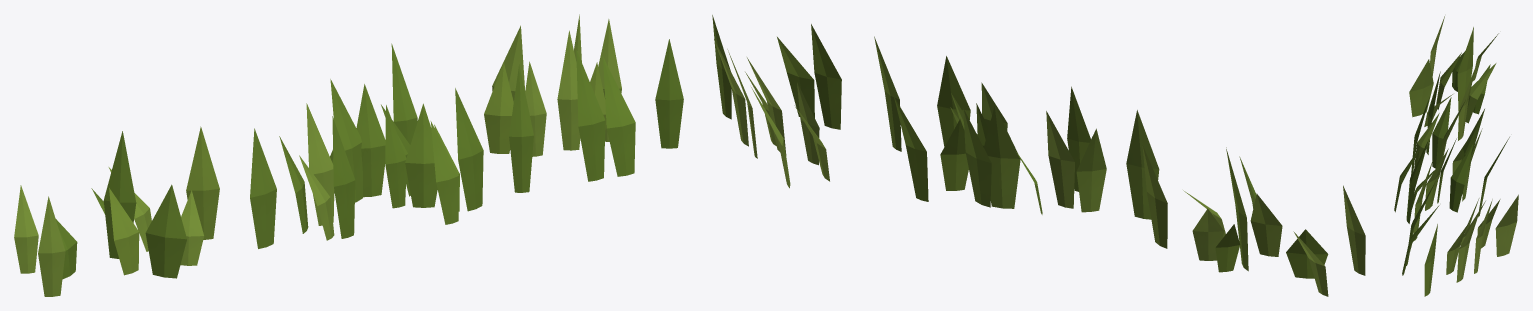
File: tile_grass_edge_02.glb
3 renders of one model, left to right at view 1: azimuth 30°, elevation 25°; view 2: azimuth 150°, elevation 25°; view 3: azimuth 270°, elevation 25°, orthographic. The views are drawn at different scales.
Visible parts, largest first — view 1: tile_grass_edge_02; view 2: tile_grass_edge_02; view 3: tile_grass_edge_02.
Boxes of the visible parts, bbox=[...] form: tile_grass_edge_02: bbox=[14, 14, 683, 296]; tile_grass_edge_02: bbox=[712, 15, 1365, 296]; tile_grass_edge_02: bbox=[1394, 16, 1518, 296].
Bounding box in the file's own units: 0.9782 × 0.176 × 0.2295.
1 material, 1 textured.
